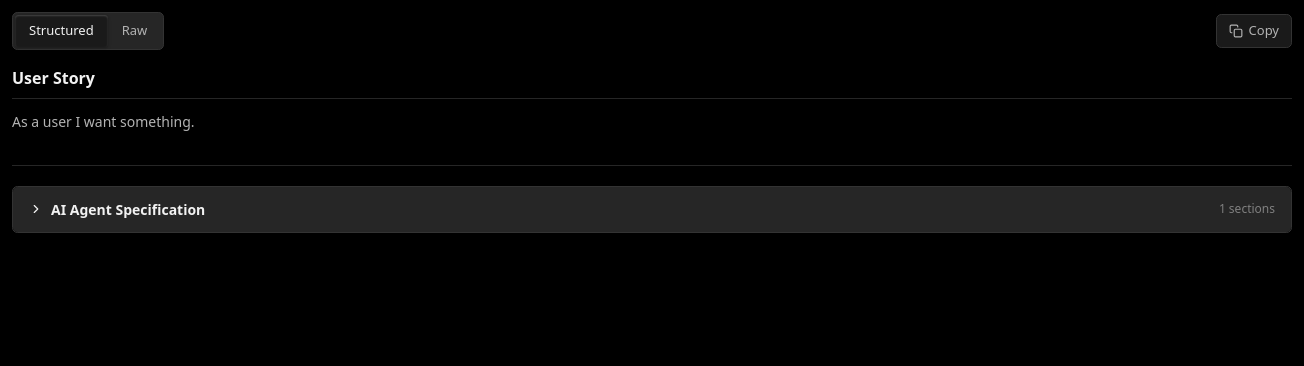
Test: StructuredDescription › expands AI Agent section when clicked
The image size is (1304, 366).
// Click to expand
Click the text "AI Agent Specification". click: (128, 209)
box: [51,199,205,220]
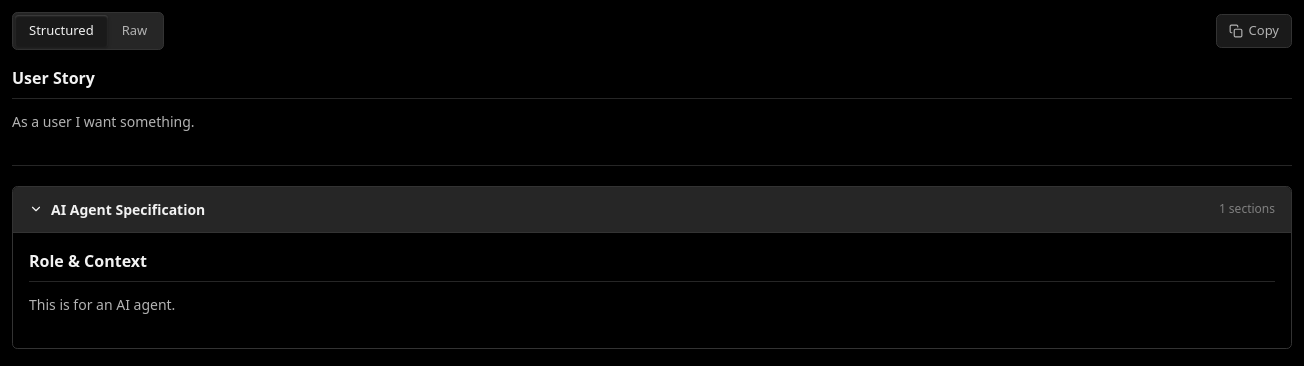
Now the heading "Role & Context" is shown, box [29,249,1275,282]
Now the text "This is for an AI agent." is shown, box [29,295,175,314]
